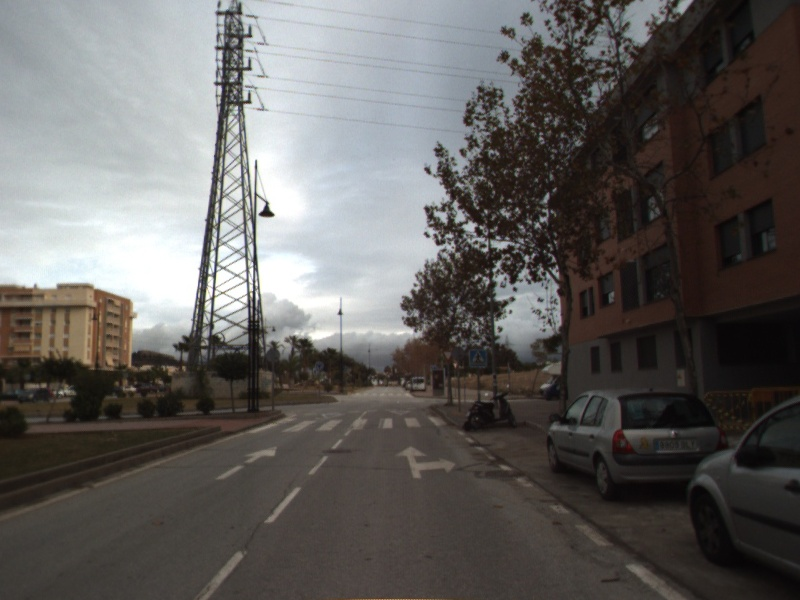STRAIGHT: (214, 444, 279, 481)
STRAIGHT_RIGHT: (393, 444, 457, 480)
